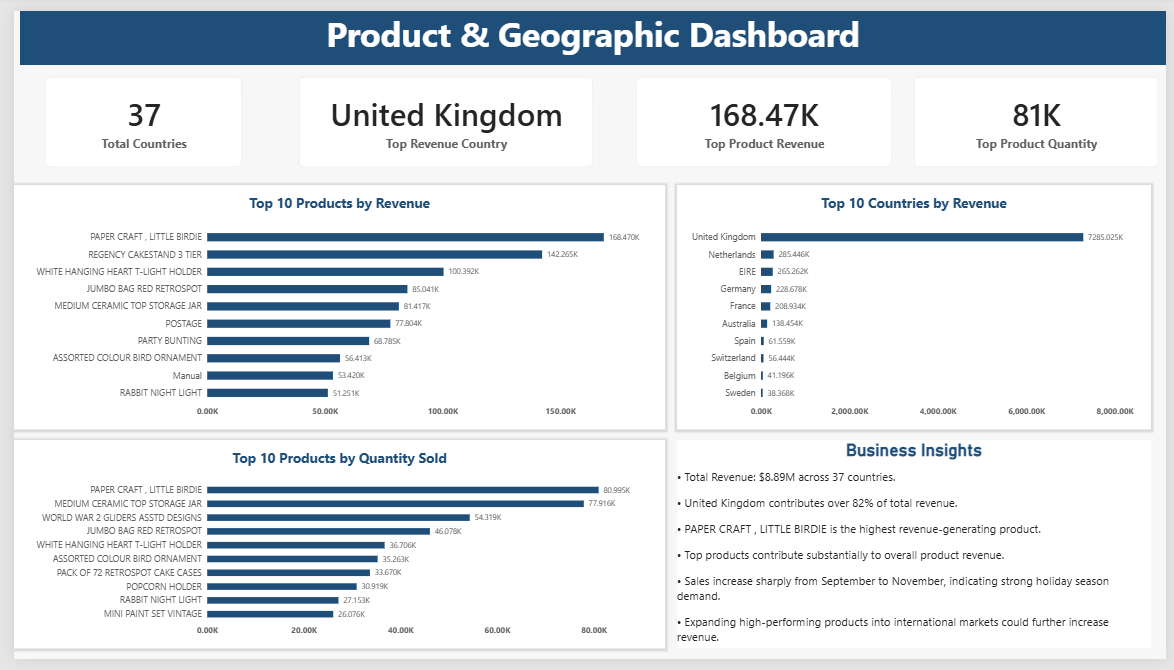

What the dashboard file says about the page in this screenshot:
{"tool":"powerbi","page":{"name":"Page 3","canvas":[1920,1080],"ordinal":2},"visuals":[{"type":"textbox","box":[10,0,1910,90],"z":0},{"type":"cardVisual","fields":{"Data":["online_retail_final.Total Countries"]},"box":[52.5,110,327.5,150],"z":1},{"type":"cardVisual","fields":{"Data":["Customer_Segmentation.Top Revenue Country"]},"box":[475,110,490,150],"z":2},{"type":"cardVisual","fields":{"Data":["Customer_Segmentation.Top Product Revenue"]},"box":[1037.5,110,425,150],"z":3},{"type":"cardVisual","fields":{"Data":["Customer_Segmentation.Top Product Quantity"]},"box":[1500,110,407.5,150],"z":4},{"type":"clusteredBarChart","title":"Top 10 Products by Quantity Sold","fields":{"Category":["online_retail_final.Description"],"Y":["Sum(online_retail_final.Quantity)"]},"box":[0,715,1085,347.5],"z":5},{"type":"clusteredBarChart","title":"Top 10 Countries by Revenue","fields":{"Category":["online_retail_final.Country"],"Y":["Sum(online_retail_final.Revenue)"]},"box":[1105,290,790,407.5],"z":6},{"type":"clusteredBarChart","title":"Top 10 Products by Revenue","fields":{"Category":["online_retail_final.Description"],"Y":["Sum(online_retail_final.Revenue)"]},"box":[0,290,1085,407.5],"z":7},{"type":"textbox","title":"Business Insights","box":[1105,715,790,347.5],"z":8}]}

Visuals, with their boxes in screenshot pixels (x1, y1, x2, y2), scaled from the page's 1920x1080 canvas onto the 1174x670 screenshot:
textbox: 6/0/1173/56
cardVisual - online_retail_final.Total Countries: 32/68/232/161
cardVisual - Customer_Segmentation.Top Revenue Country: 290/68/590/161
cardVisual - Customer_Segmentation.Top Product Revenue: 634/68/894/161
cardVisual - Customer_Segmentation.Top Product Quantity: 917/68/1166/161
"Top 10 Products by Quantity Sold" clusteredBarChart: 0/444/663/659
"Top 10 Countries by Revenue" clusteredBarChart: 676/180/1159/433
"Top 10 Products by Revenue" clusteredBarChart: 0/180/663/433
"Business Insights" textbox: 676/444/1159/659
